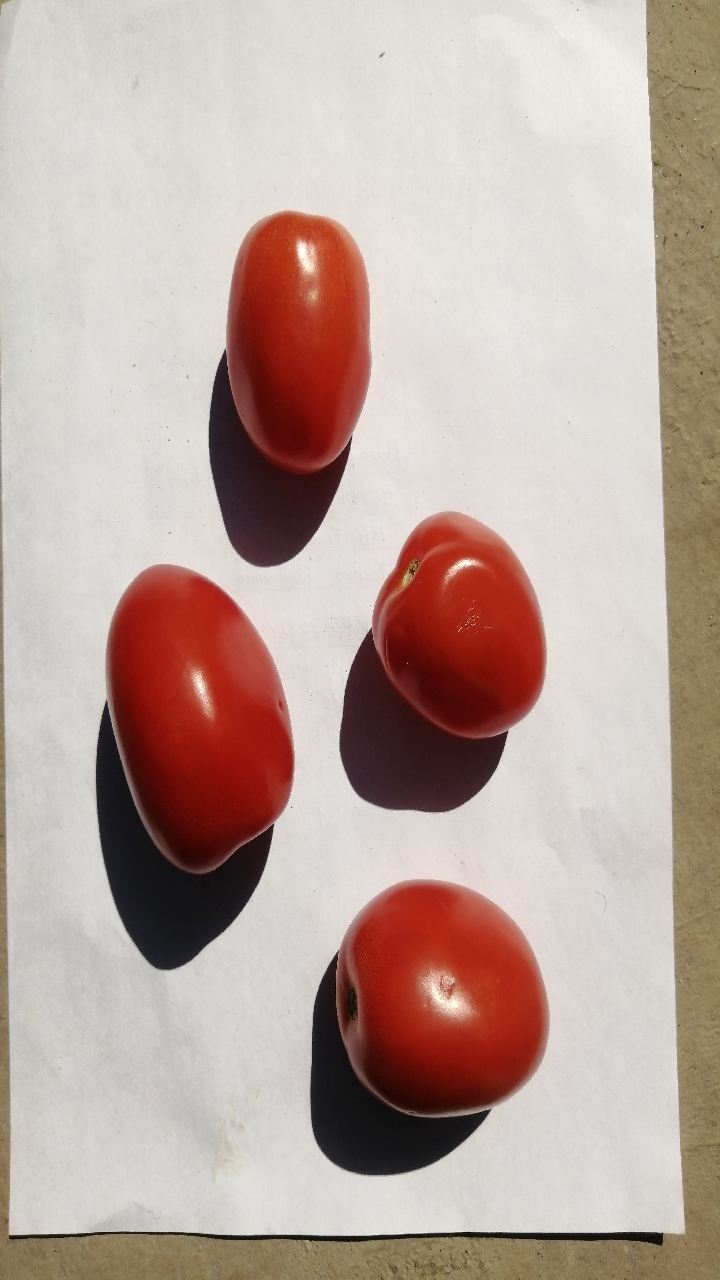tomateRojo: (86, 526, 298, 883), (317, 860, 569, 1142), (201, 189, 383, 482), (361, 499, 566, 759)
